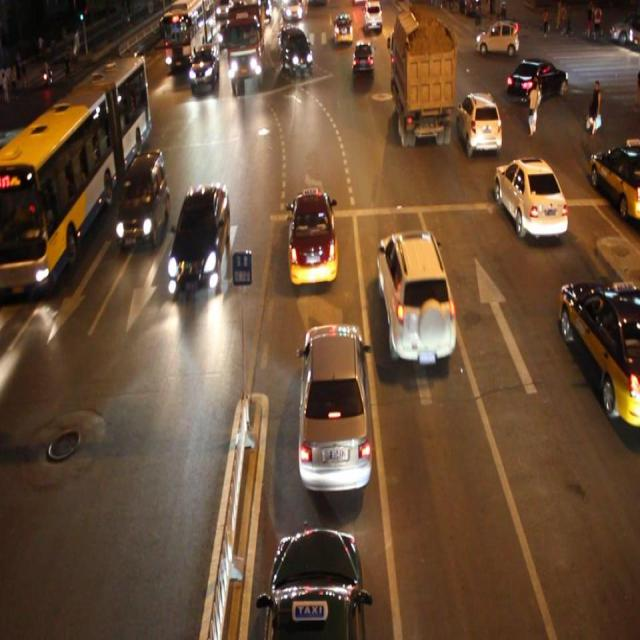bus: (390, 17, 451, 148), (225, 1, 267, 86)
car: (297, 319, 373, 495), (260, 526, 367, 640), (559, 280, 640, 426), (376, 228, 455, 360), (170, 184, 228, 294), (492, 160, 566, 237), (287, 188, 339, 284), (456, 88, 501, 157), (504, 55, 566, 105), (110, 62, 148, 110), (280, 28, 314, 75), (189, 43, 219, 85), (351, 39, 374, 75)
truck: (117, 153, 171, 242)
van: (1, 60, 150, 297), (164, 1, 215, 63)
